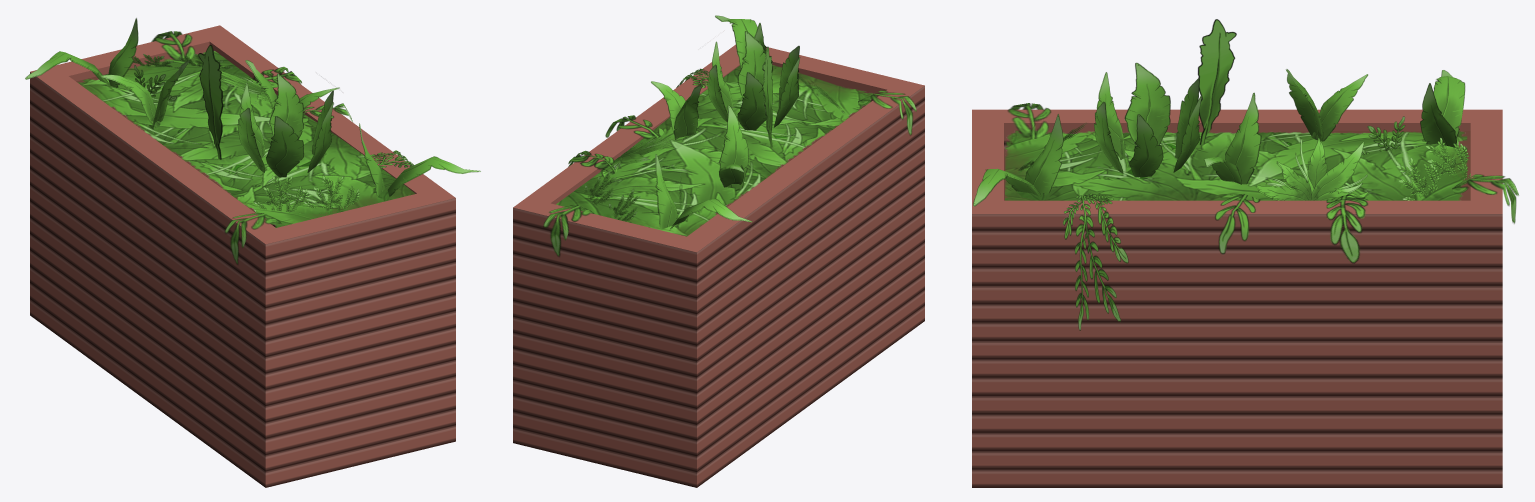
File: plant.glb
3 views of the same model, side by side, from view 1: azimuth 30°, elevation 25°; view 2: azimuth 150°, elevation 25°; view 3: azimuth 270°, elevation 25° (orthographic). The views are drawn at different scales.
Visible parts, largest first — view 1: PlanterBox_Optimized; view 2: PlanterBox_Optimized; view 3: PlanterBox_Optimized.
Boxes of the visible parts, box(x1,y1,x2,y2) form: PlanterBox_Optimized: box(25, 18, 480, 487); PlanterBox_Optimized: box(513, 15, 924, 487); PlanterBox_Optimized: box(972, 19, 1518, 487).
Bounding box in the file's own units: 1.36 × 1.78 × 2.31.
1 material, 1 textured.
